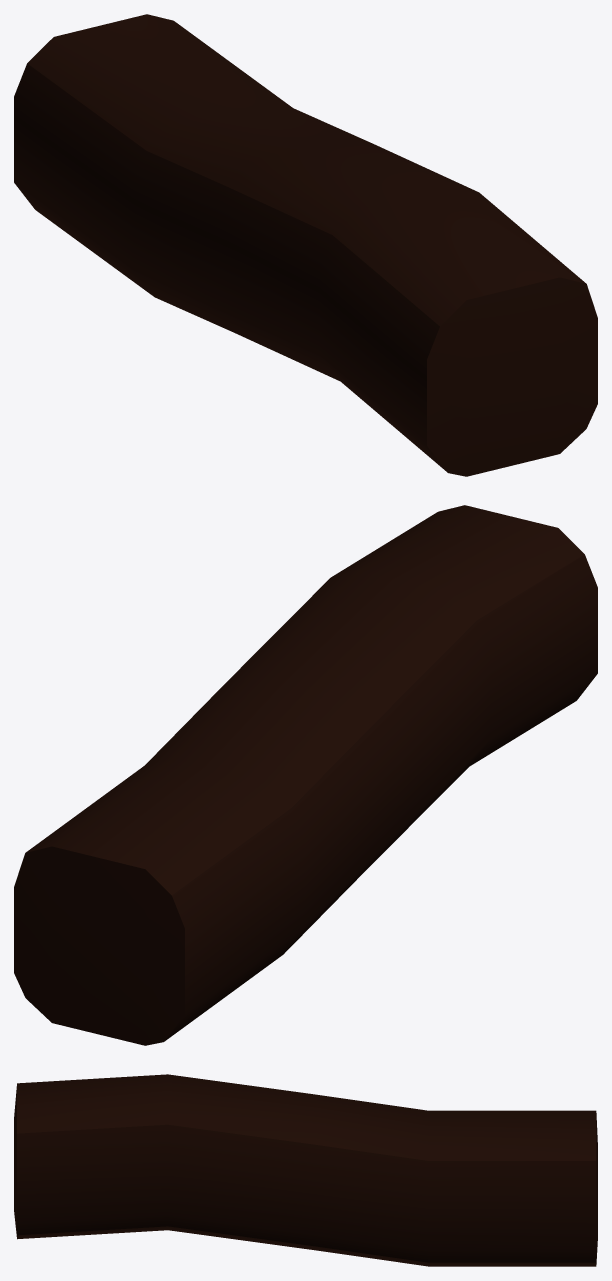
The model's file is Log_002.FBX.
The picture shows the model from 3 angles, top to bottom: view 1: azimuth 30°, elevation 25°; view 2: azimuth 150°, elevation 25°; view 3: azimuth 270°, elevation 25°; orthographic projection. The views are drawn at different scales.
Visible parts, largest first — view 1: Log 2; view 2: Log 2; view 3: Log 2.
Part boxes in pixels (bbox=[...]): Log 2: bbox=[14, 14, 597, 476]; Log 2: bbox=[14, 505, 597, 1045]; Log 2: bbox=[14, 1074, 597, 1266].
Size of the model in its own units: 16.64 by 21.23 by 70.13.
